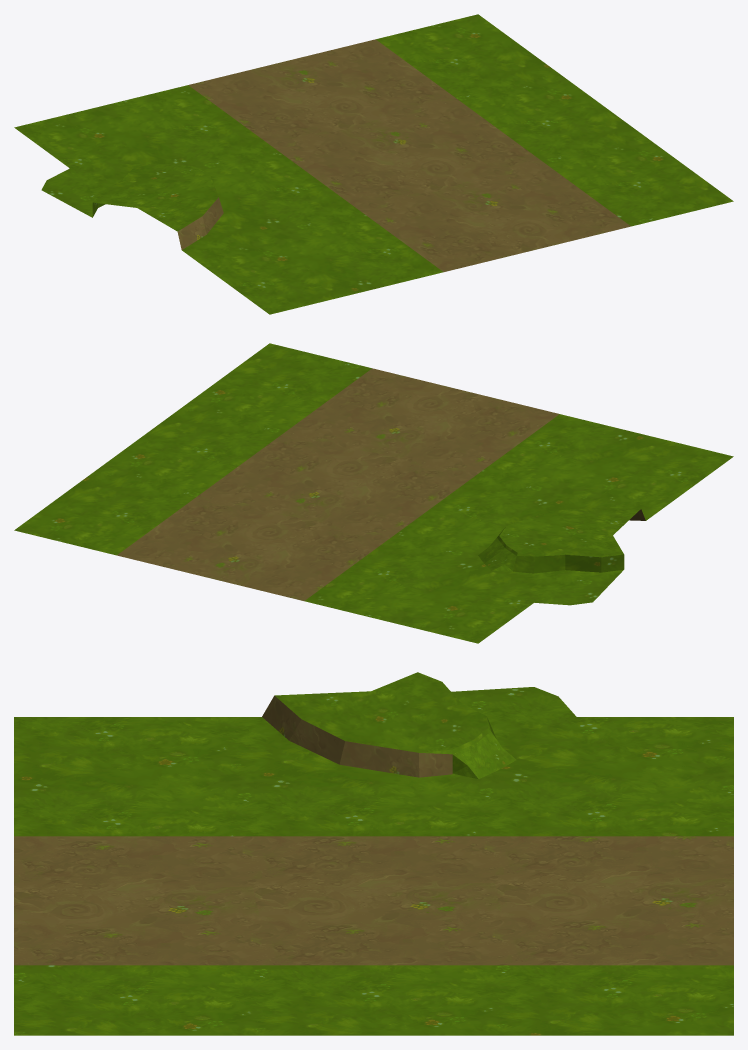
The model's file is ZJM_CD.FBX.
3 views of the same model, one above another, from view 1: azimuth 30°, elevation 25°; view 2: azimuth 150°, elevation 25°; view 3: azimuth 270°, elevation 25° (orthographic). The views are drawn at different scales.
Visible parts, largest first — view 1: ZJM_caodi01, ZJM_caodi02; view 2: ZJM_caodi01, ZJM_caodi02; view 3: ZJM_caodi01, ZJM_caodi02.
Part boxes in pixels (<box>): ZJM_caodi01: <box>14,14,733,314</box>; ZJM_caodi02: <box>177,39,630,271</box>; ZJM_caodi01: <box>14,343,733,643</box>; ZJM_caodi02: <box>117,368,645,600</box>; ZJM_caodi01: <box>14,672,733,1035</box>; ZJM_caodi02: <box>14,695,733,965</box>.
Size of the model in its own units: 43.73 by 38.14 by 1.27.
Materials: 2 (2 with a texture image).
